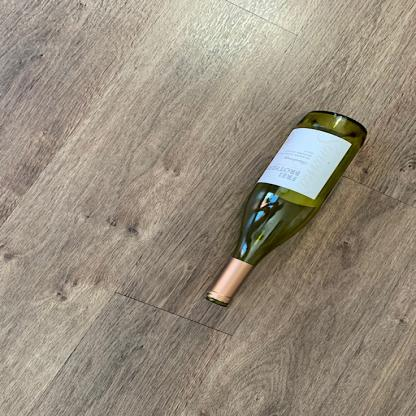trash: (202, 107, 365, 308)
